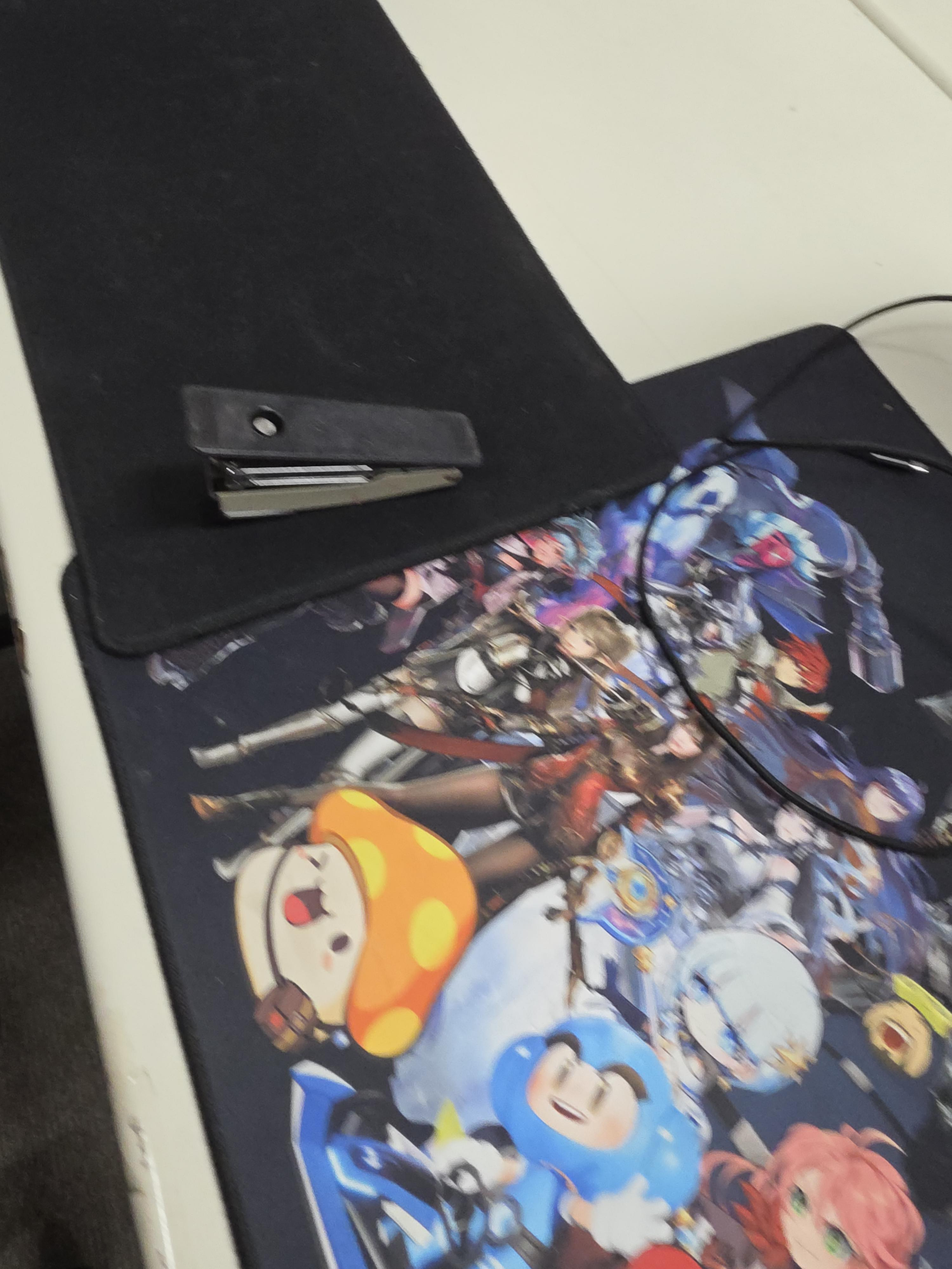stapler: (181, 385, 484, 520)
